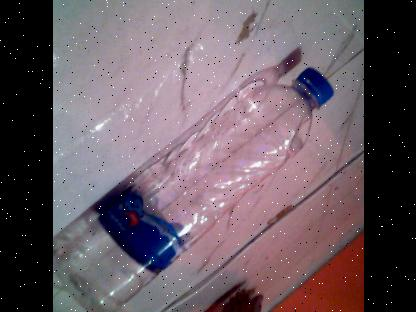Plastic Bottle: (52, 34, 359, 312)
